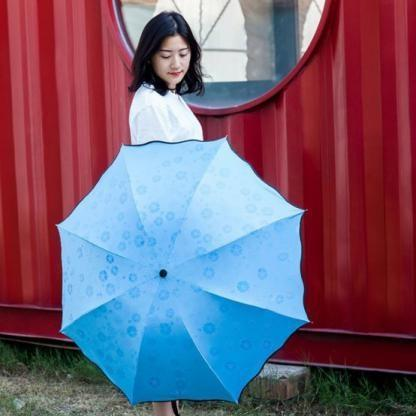Umbrella: (52, 128, 326, 416)
